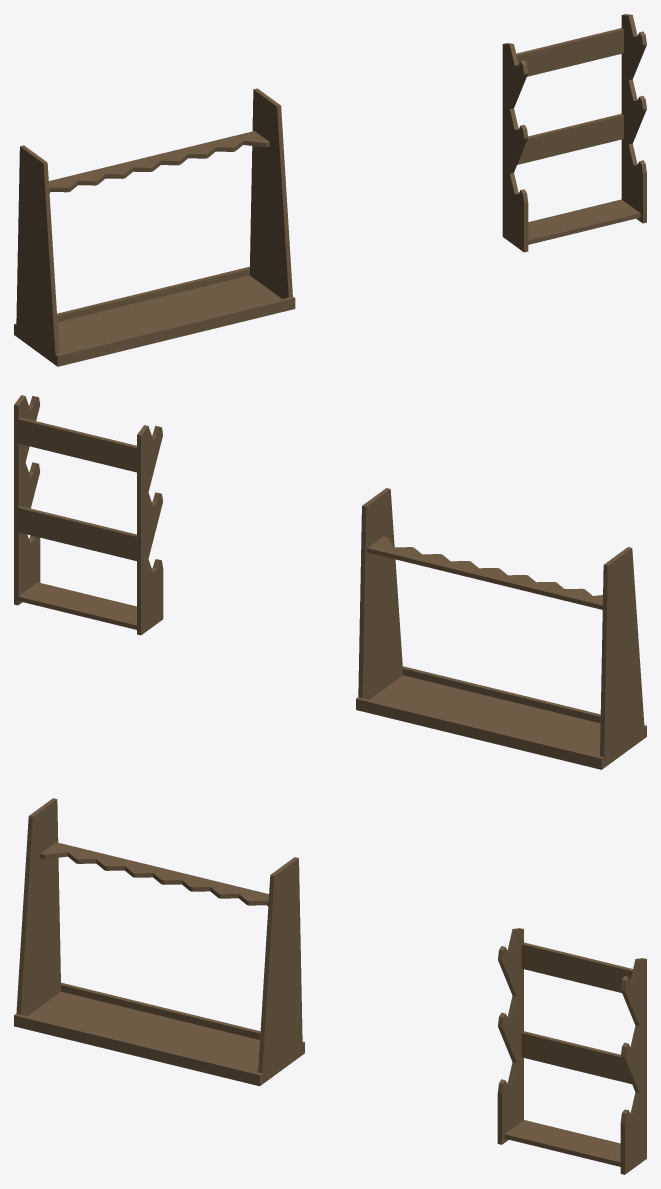
File: preview.fbx
The picture shows the model from 3 angles, top to bottom: view 1: azimuth 30°, elevation 25°; view 2: azimuth 150°, elevation 25°; view 3: azimuth 330°, elevation 25°; orthographic projection. The views are drawn at different scales.
Parts seen in each view (by area): view 1: Rifle rack 001.001, Rifle rack 002.001; view 2: Rifle rack 001.001, Rifle rack 002.001; view 3: Rifle rack 001.001, Rifle rack 002.001.
Part boxes in pixels (<box>): Rifle rack 001.001: <box>14,88,295,366</box>; Rifle rack 002.001: <box>502,14,646,252</box>; Rifle rack 001.001: <box>356,488,646,769</box>; Rifle rack 002.001: <box>14,395,163,635</box>; Rifle rack 001.001: <box>14,798,304,1086</box>; Rifle rack 002.001: <box>497,928,646,1174</box>.
Size of the model in its own units: 288 by 92 by 37.
